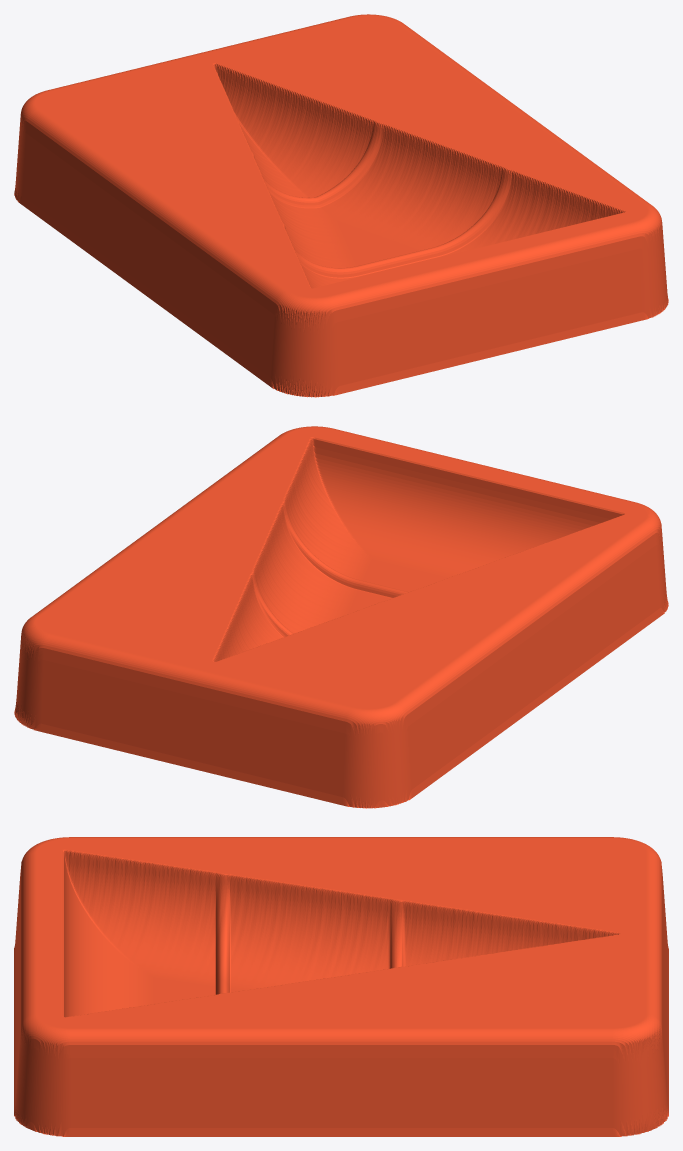
The model's file is mold.glb.
The picture shows the model from 3 angles, top to bottom: view 1: azimuth 30°, elevation 25°; view 2: azimuth 150°, elevation 25°; view 3: azimuth 270°, elevation 25°; orthographic projection. The views are drawn at different scales.
Parts seen in each view (by area): view 1: geometry_0; view 2: geometry_0; view 3: geometry_0.
Boxes of the visible parts, x1,y1,x2,y2 form: geometry_0: (14, 14, 668, 397); geometry_0: (14, 426, 668, 808); geometry_0: (14, 837, 668, 1136).
Size of the model in its own units: 0.0792 by 0.0175 by 0.105.
